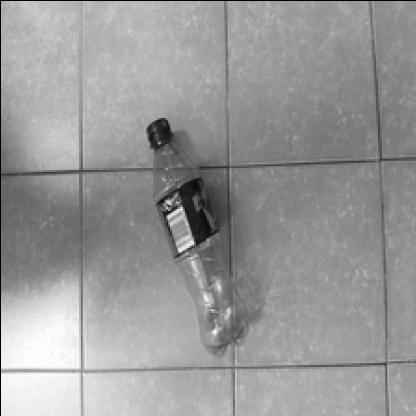plastic_bottles: (135, 111, 257, 361)
